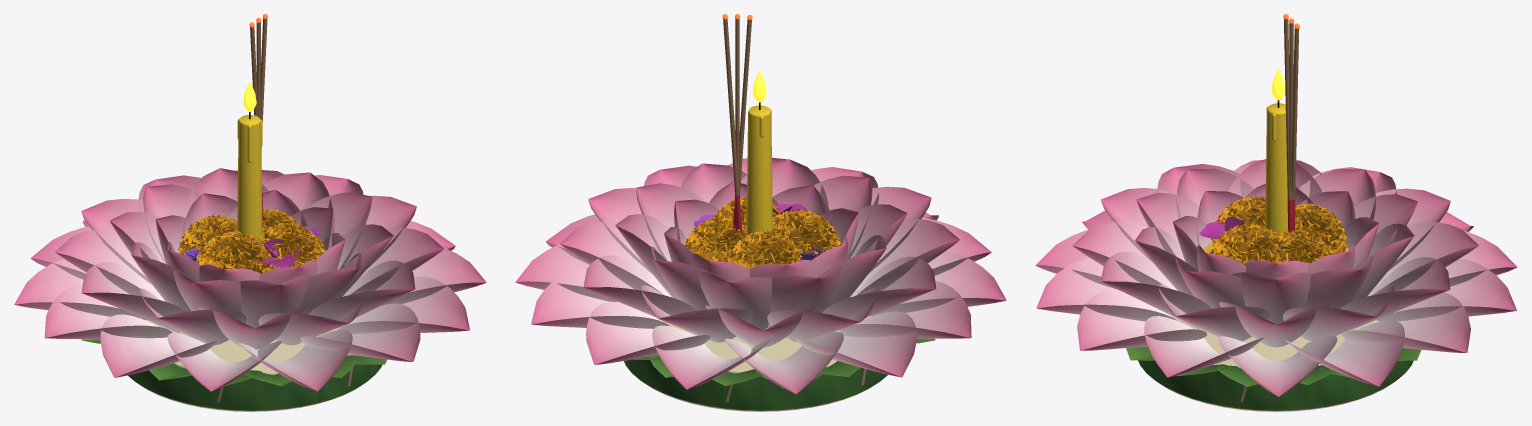
The model's file is lotus.glb.
3 renders of one model, left to right at view 1: azimuth 30°, elevation 25°; view 2: azimuth 150°, elevation 25°; view 3: azimuth 270°, elevation 25°, orthographic. The views are drawn at different scales.
Parts seen in each view (by area): view 1: petals_outer, petals_middle, petals_inner, base_trunk, petals_core, marigold (×4), candle_body, leaf_skirt, incense_sticks, orchid; view 2: petals_outer, petals_middle, petals_inner, base_trunk, petals_core, marigold (×4), candle_body, incense_sticks, leaf_skirt; view 3: petals_outer, petals_middle, petals_inner, base_trunk, petals_core, marigold (×4), candle_body, incense_sticks, leaf_skirt, orchid.
Boxes of the visible parts, box(x1,y1,x2,y2) form: petals_outer: box(14, 220, 486, 391); petals_middle: box(55, 170, 443, 349); petals_inner: box(109, 168, 393, 328); base_trunk: box(128, 300, 382, 411); petals_core: box(155, 189, 345, 284); marigold (×4): box(178, 209, 325, 273); candle_body: box(237, 115, 262, 238); leaf_skirt: box(81, 339, 386, 386); incense_sticks: box(250, 18, 267, 226); orchid: box(253, 238, 300, 267); petals_outer: box(515, 212, 1006, 394); petals_middle: box(560, 157, 959, 347); petals_inner: box(615, 159, 907, 330); base_trunk: box(624, 297, 887, 411); petals_core: box(664, 181, 858, 281); marigold (×4): box(684, 197, 840, 268); candle_body: box(746, 105, 772, 234); incense_sticks: box(723, 19, 751, 232); leaf_skirt: box(586, 333, 935, 386); petals_outer: box(1035, 210, 1517, 396); petals_middle: box(1072, 160, 1478, 347); petals_inner: box(1135, 159, 1417, 324); base_trunk: box(1138, 316, 1413, 411); petals_core: box(1173, 183, 1379, 279); marigold (×4): box(1209, 196, 1346, 263); candle_body: box(1265, 103, 1288, 234); incense_sticks: box(1284, 19, 1299, 232); leaf_skirt: box(1126, 346, 1421, 386); orchid: box(1199, 216, 1244, 239).
Size of the model in its own units: 0.951 by 0.7306 by 0.9281.
